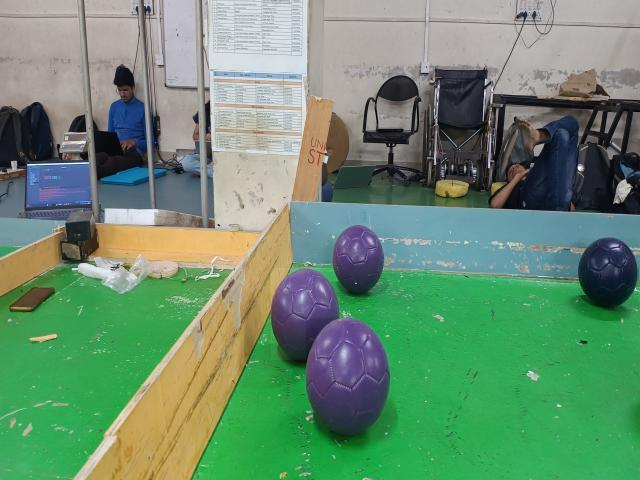jambhalya: (306, 318, 390, 435), (271, 268, 340, 360), (333, 225, 384, 293)
kaalyya: (578, 238, 638, 307)
